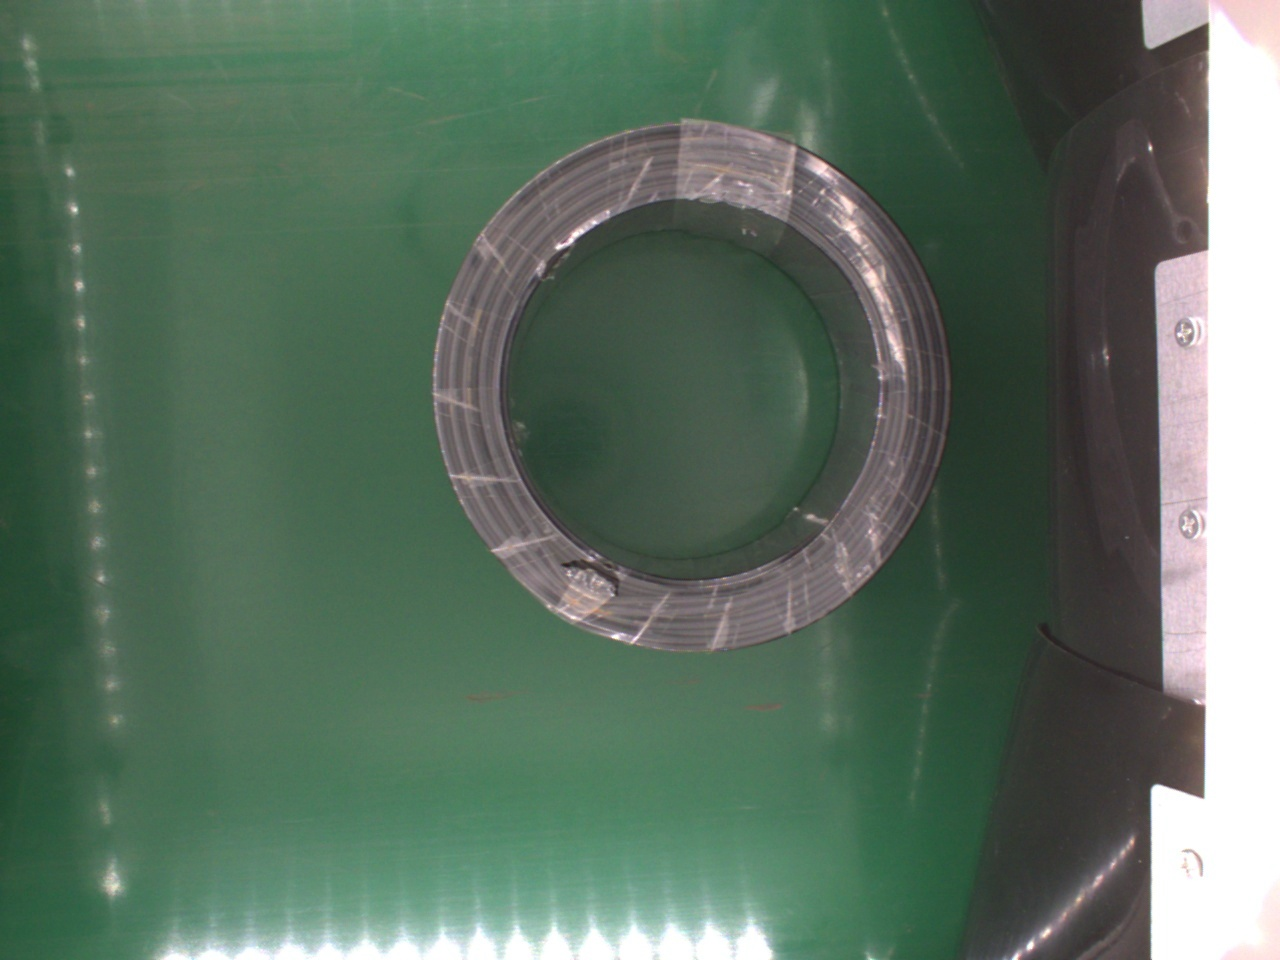black: (423, 117, 950, 656)
